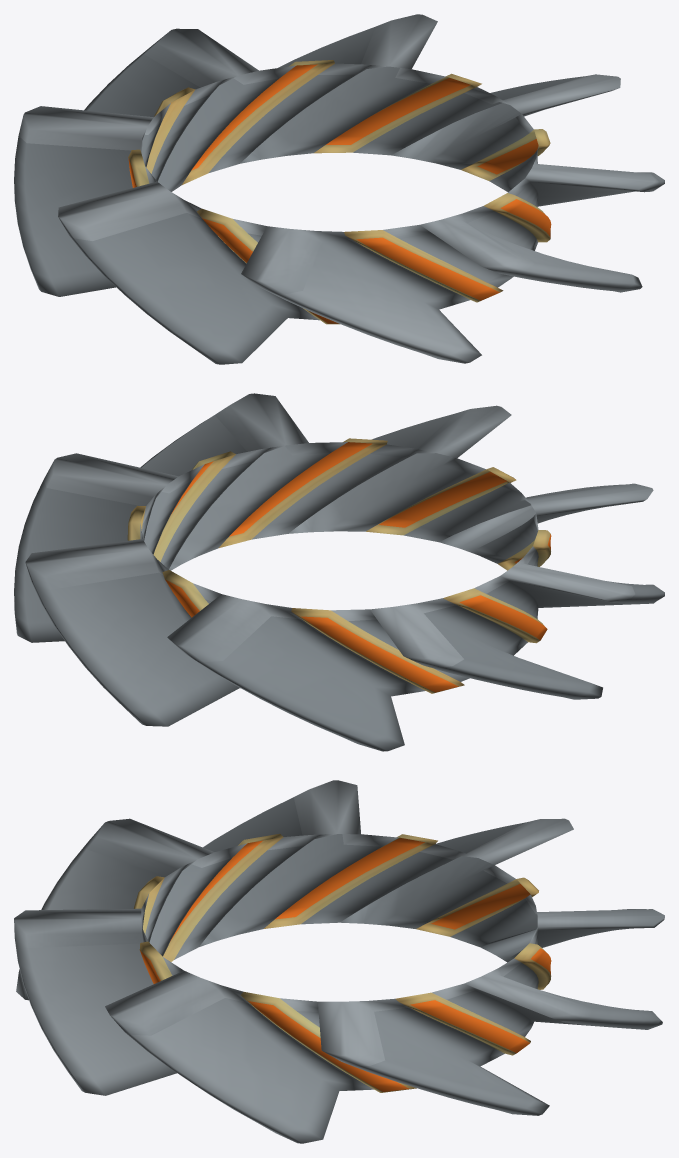
The model's file is OS_Silo_Fan.obj.
3 views of the same model, one above another, from view 1: azimuth 30°, elevation 25°; view 2: azimuth 150°, elevation 25°; view 3: azimuth 270°, elevation 25° (orthographic).
Visible parts, largest first — view 1: Cylinder_Cylinder.024; view 2: Cylinder_Cylinder.024; view 3: Cylinder_Cylinder.024.
Boxes of the visible parts, x1,y1,x2,y2 form: Cylinder_Cylinder.024: (14, 14, 664, 364); Cylinder_Cylinder.024: (14, 393, 664, 751); Cylinder_Cylinder.024: (14, 780, 664, 1143).
Bounding box in the file's own units: 1.78 × 0.2689 × 1.78.
